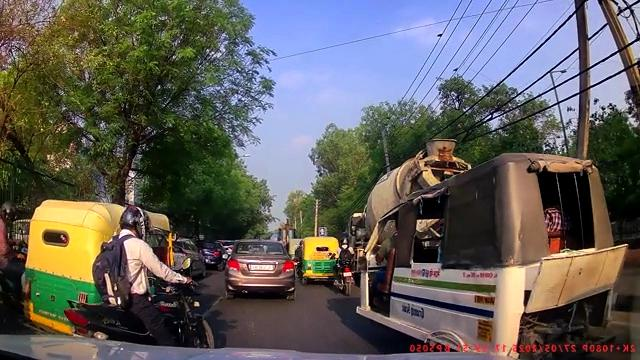motorcycle_with_helmet: (64, 201, 219, 339)
